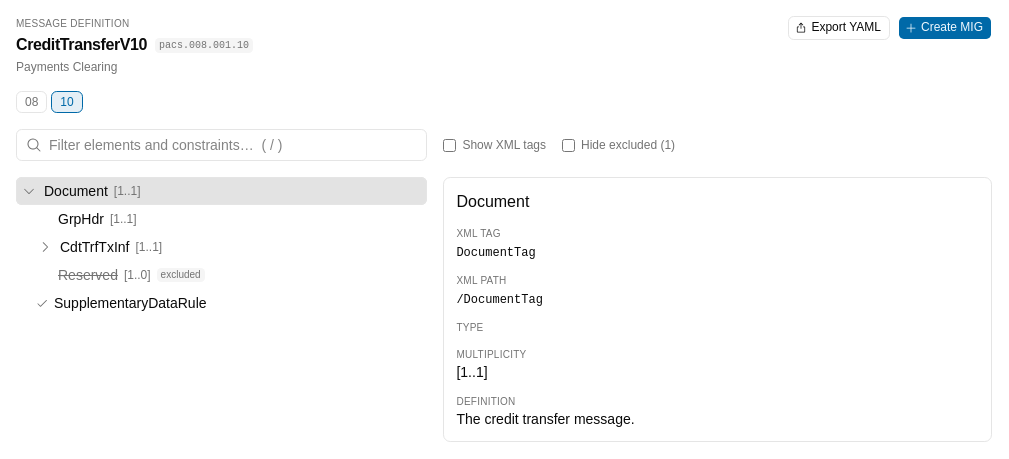
Test case: MessageExplorer › shows the clicked element's path in the detail panel (selection follows focus)
What coordinates should you click on to do the following:
click the list item "CdtTrfTxInf"
I would click on:
 (100, 247)
Its box is [38,239,162,255].
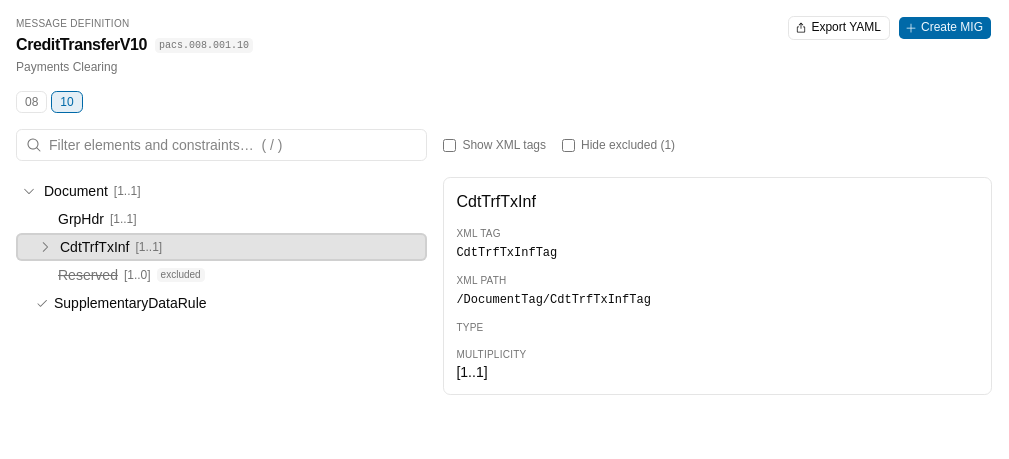
Check: the text "/DocumentTag/CdtTrfTxInfTag" is shown, box [456,293,651,307]
